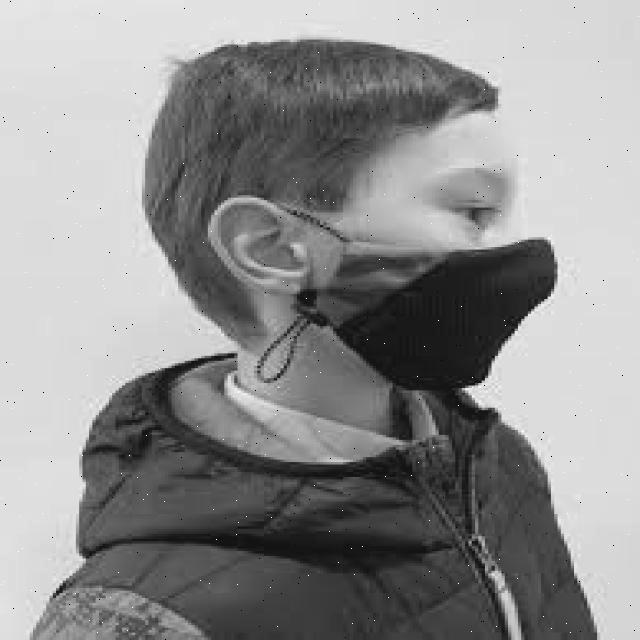fake: (252, 185, 585, 410)
real: (338, 112, 528, 394)
